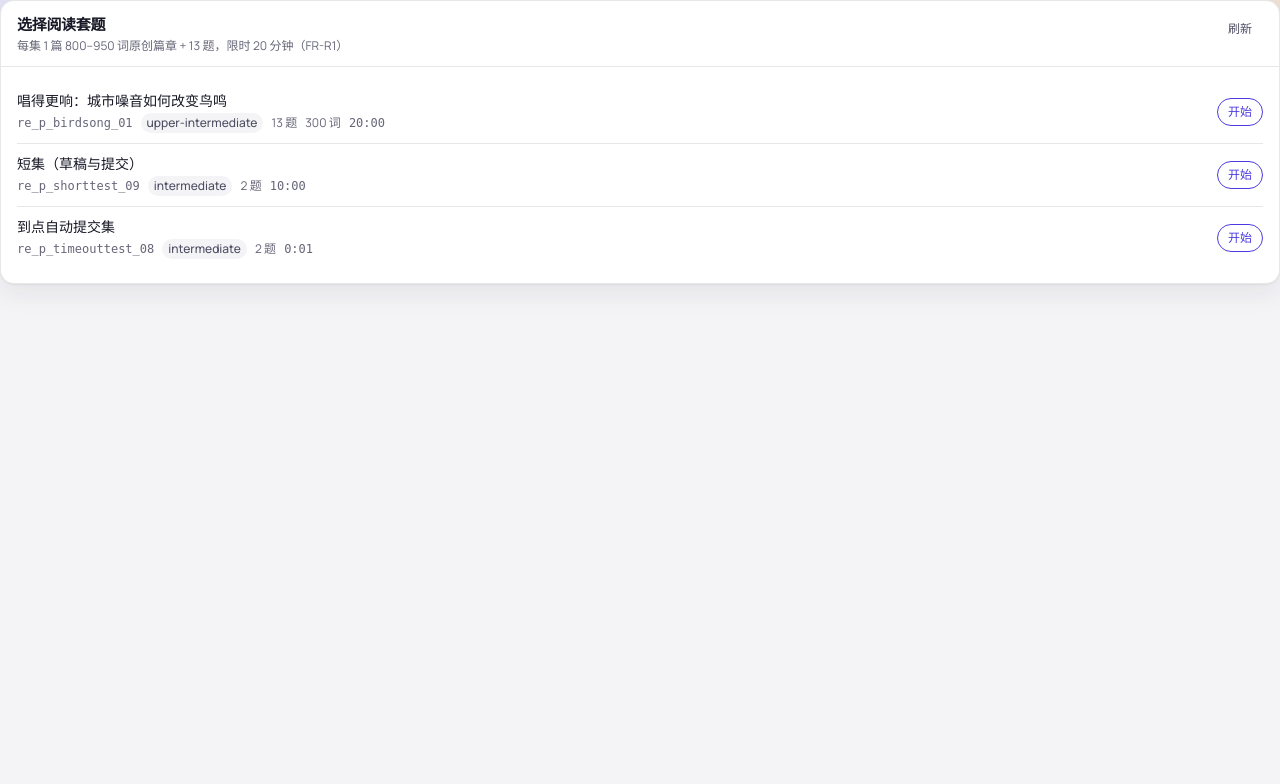
Test: 选题 → 做题 › 列表来自 GET /reading/sets，选中后才拉篇章（#17/#18）
The image size is (1280, 784).
Expected: the heading "选择阅读套题" is shown, [17,16,105,33]
Expected: the text "re_p_birdsong_01" is shown, [17,115,133,131]
Click the button "开始" in the row of "短集（草稿与提交）" at (1240, 175), box [1217,161,1263,189]
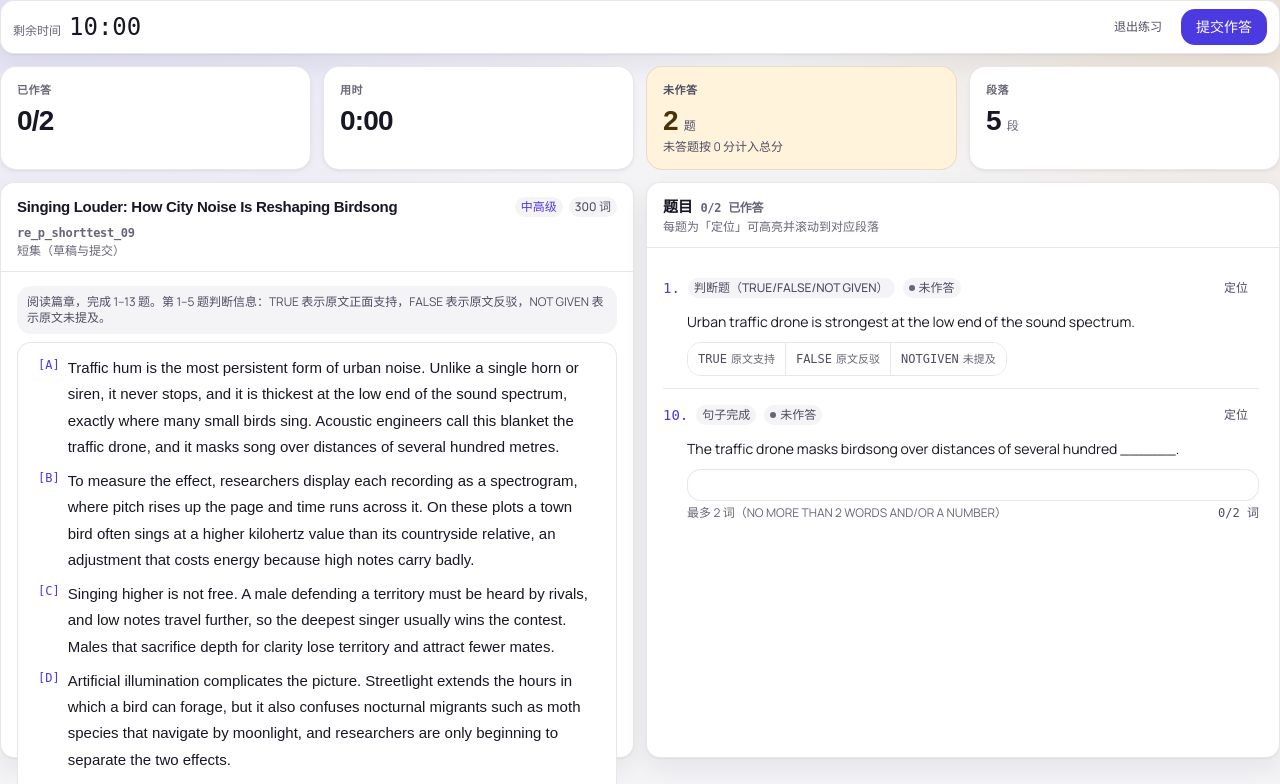
Expected: the text "10:00" is shown, [69,15,141,39]
Expected: the element with test id "questions-scroll" is shown, [663,262,1263,533]
